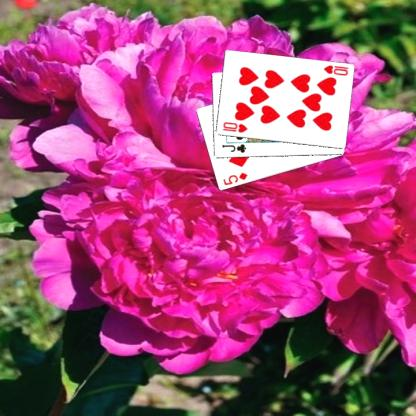10H: (321, 62, 349, 77), (220, 120, 249, 134)
5D: (221, 170, 248, 186)
JC: (219, 142, 247, 154)
